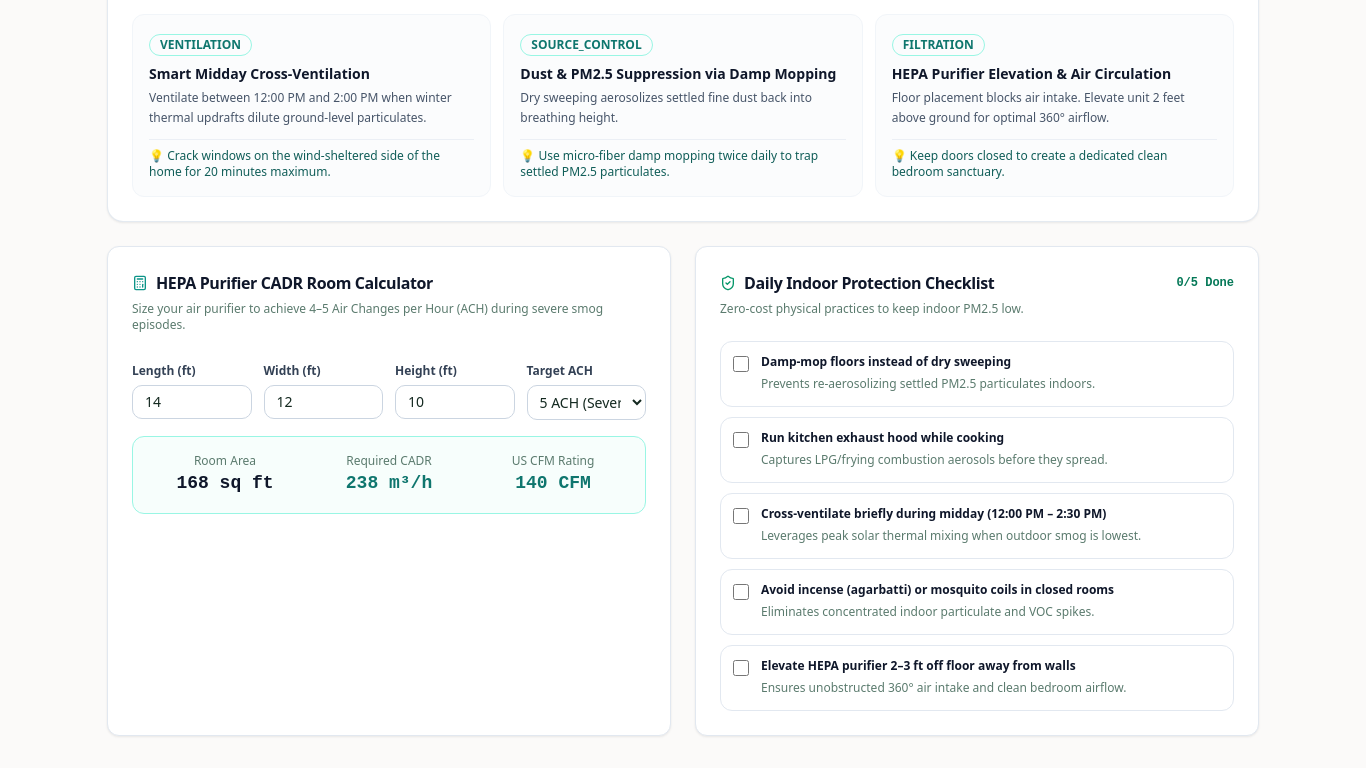
it: Frontend Alignment & Interactive Views › IndoorAirView calculates HEPA CADR dynamically from room dimensions
(page scrolled)
Expected: the heading "HEPA Purifier CADR Room Calculator" is shown, [132, 272, 433, 294]
Expected: the text "168 sq ft" is shown, [176, 473, 274, 493]
Replace the text in the number field labelled "Length (ft)" with "20". click: (192, 402)
box: [132, 385, 252, 419]
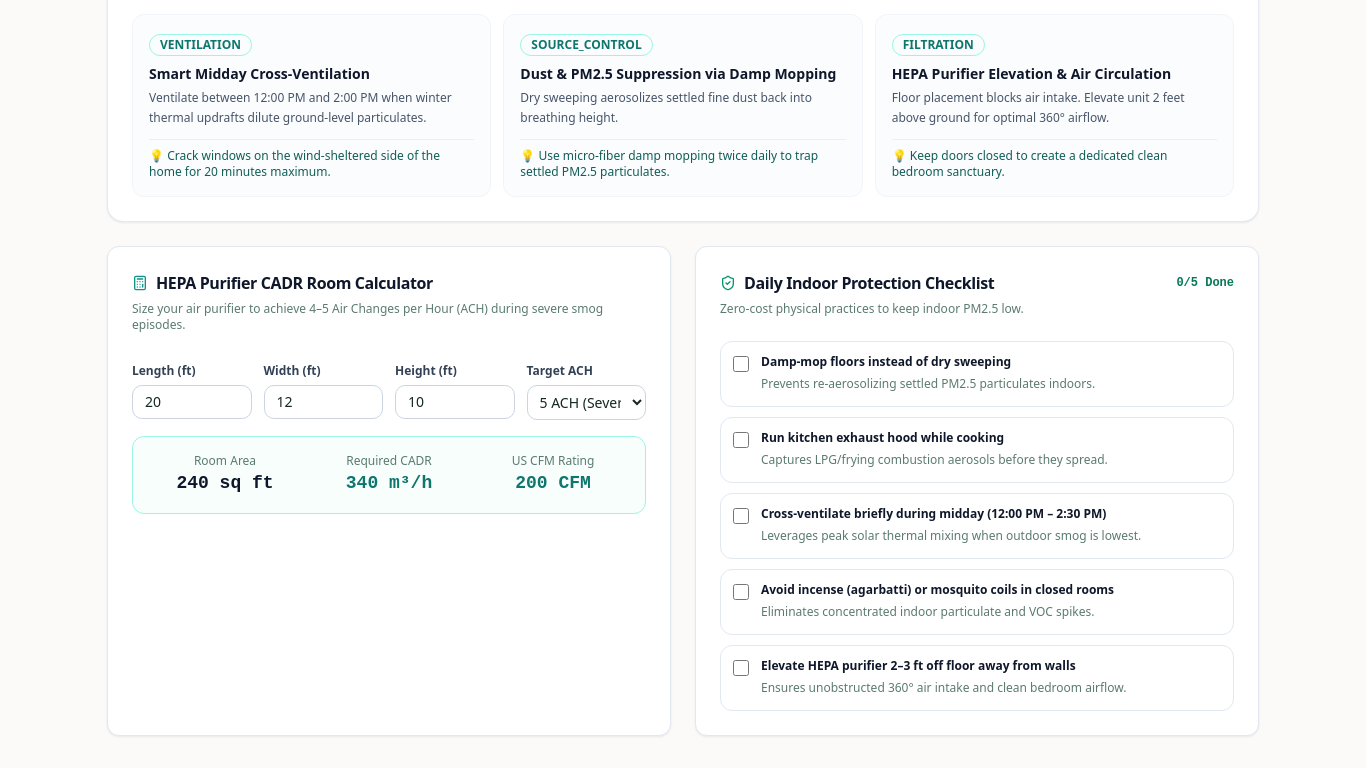
Result: the text "240 sq ft" is shown at [176, 473, 274, 493]
